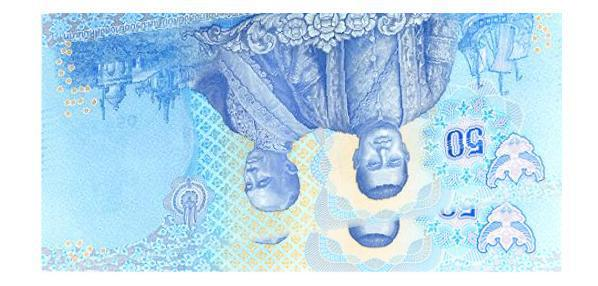50BahtTai: (46, 13, 563, 271)
